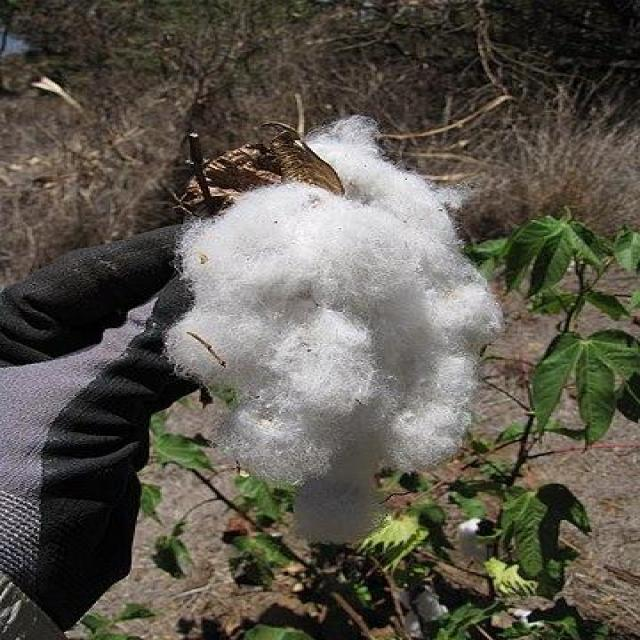Late_blight: (156, 109, 515, 559)
